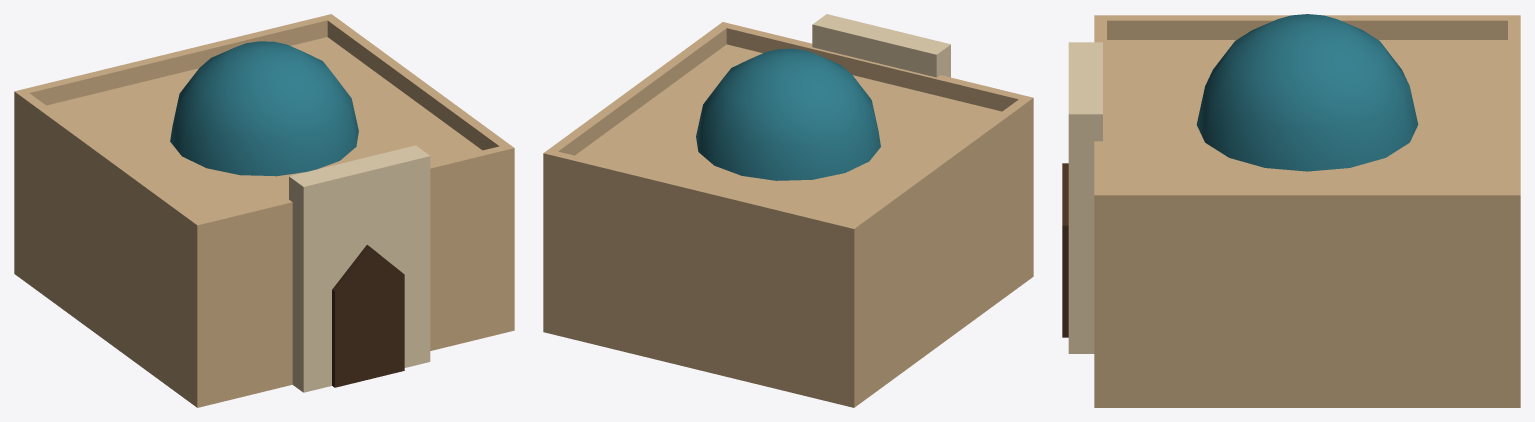
Rendered from mint.glb.
3 renders of one model, left to right at view 1: azimuth 30°, elevation 25°; view 2: azimuth 150°, elevation 25°; view 3: azimuth 270°, elevation 25°, orthographic. The views are drawn at different scales.
Parts seen in each view (by area): view 1: Mint; view 2: Mint; view 3: Mint.
Boxes of the visible parts, <box> form: Mint: <box>14,14,514,407</box>; Mint: <box>543,14,1033,407</box>; Mint: <box>1062,14,1520,407</box>.
Size of the model in its own units: 10 by 7.6 by 10.75.
